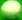white: (0, 0, 22, 20)
